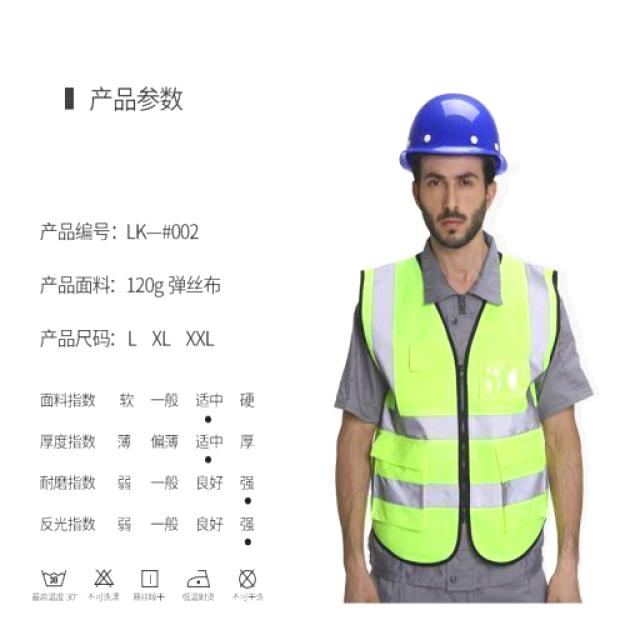face_nomask: (420, 167, 486, 239)
head_helmet: (393, 87, 512, 163)
person: (322, 86, 592, 604)
vest: (350, 250, 564, 572)
